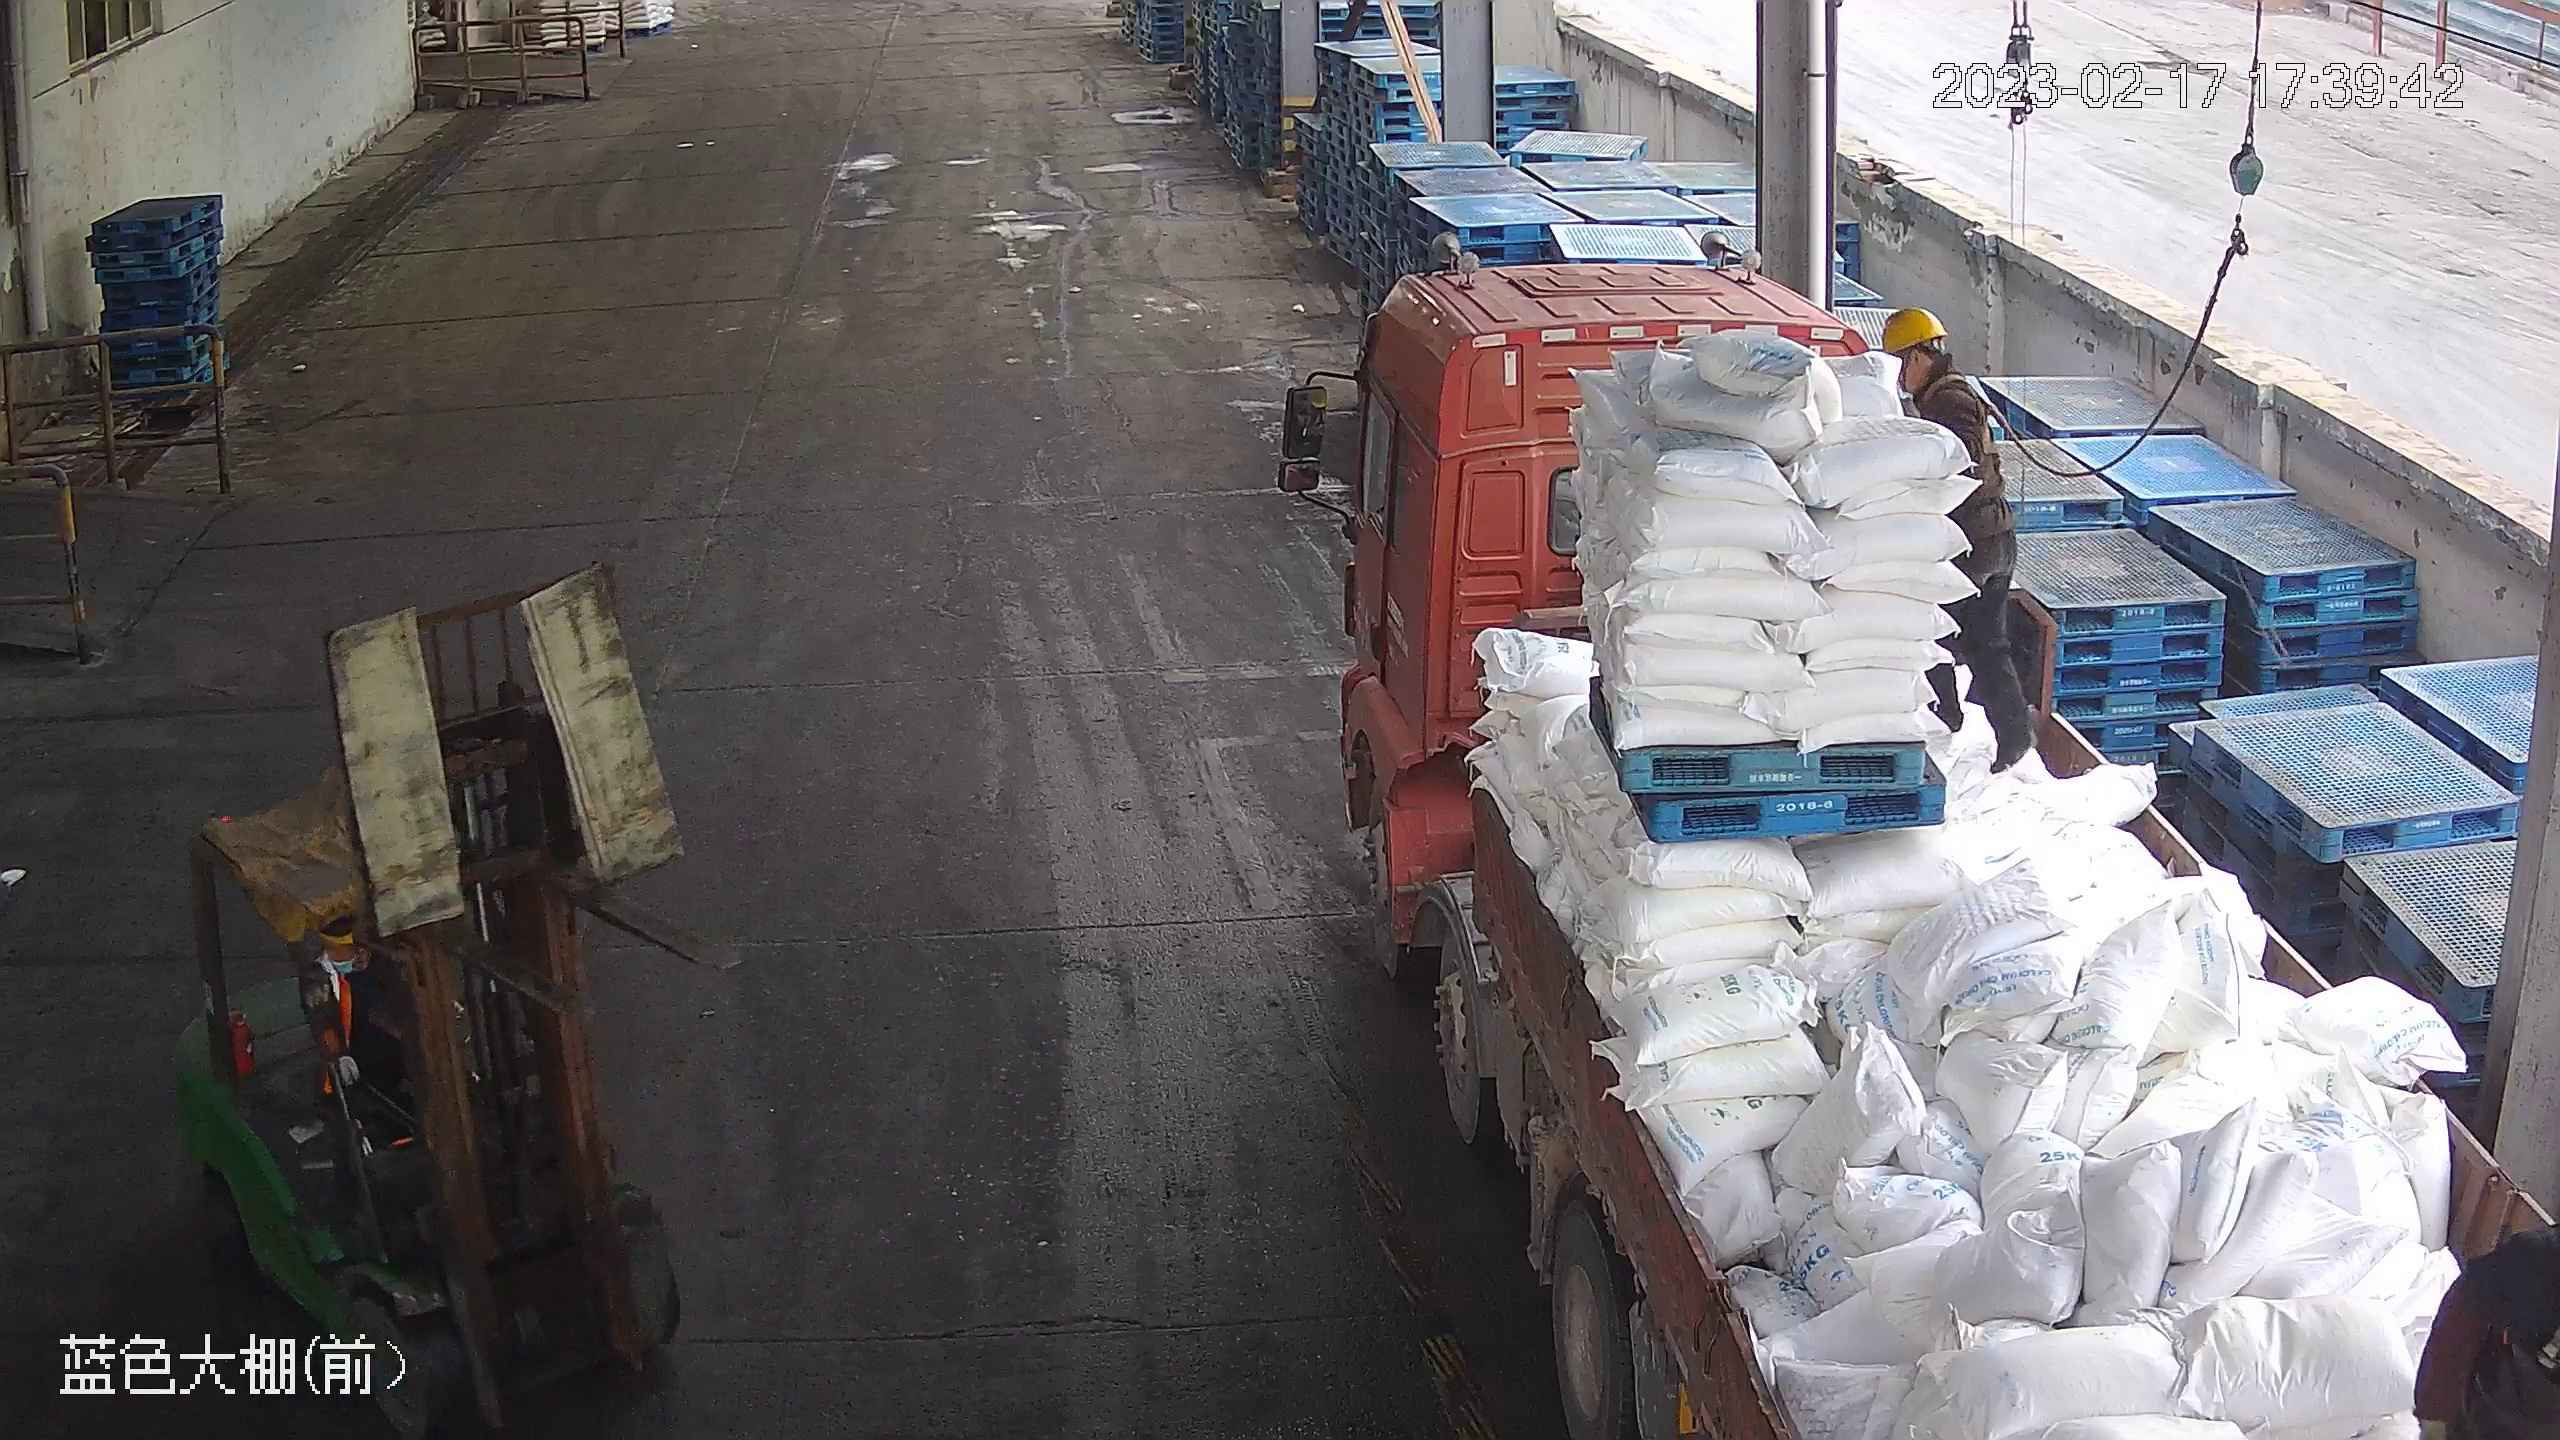belt: (1936, 373, 2016, 485), (1916, 356, 2005, 450)
head: (1874, 301, 1995, 434)
helmet: (1875, 302, 1947, 355)
people: (1891, 304, 2044, 782)
truck: (1277, 243, 2550, 1438)
